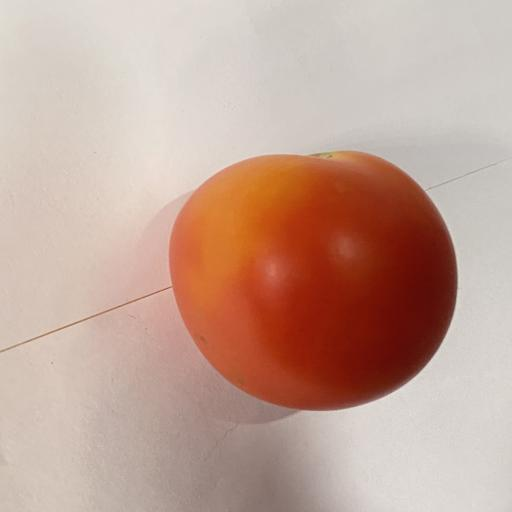ripe: (169, 151, 457, 410)
